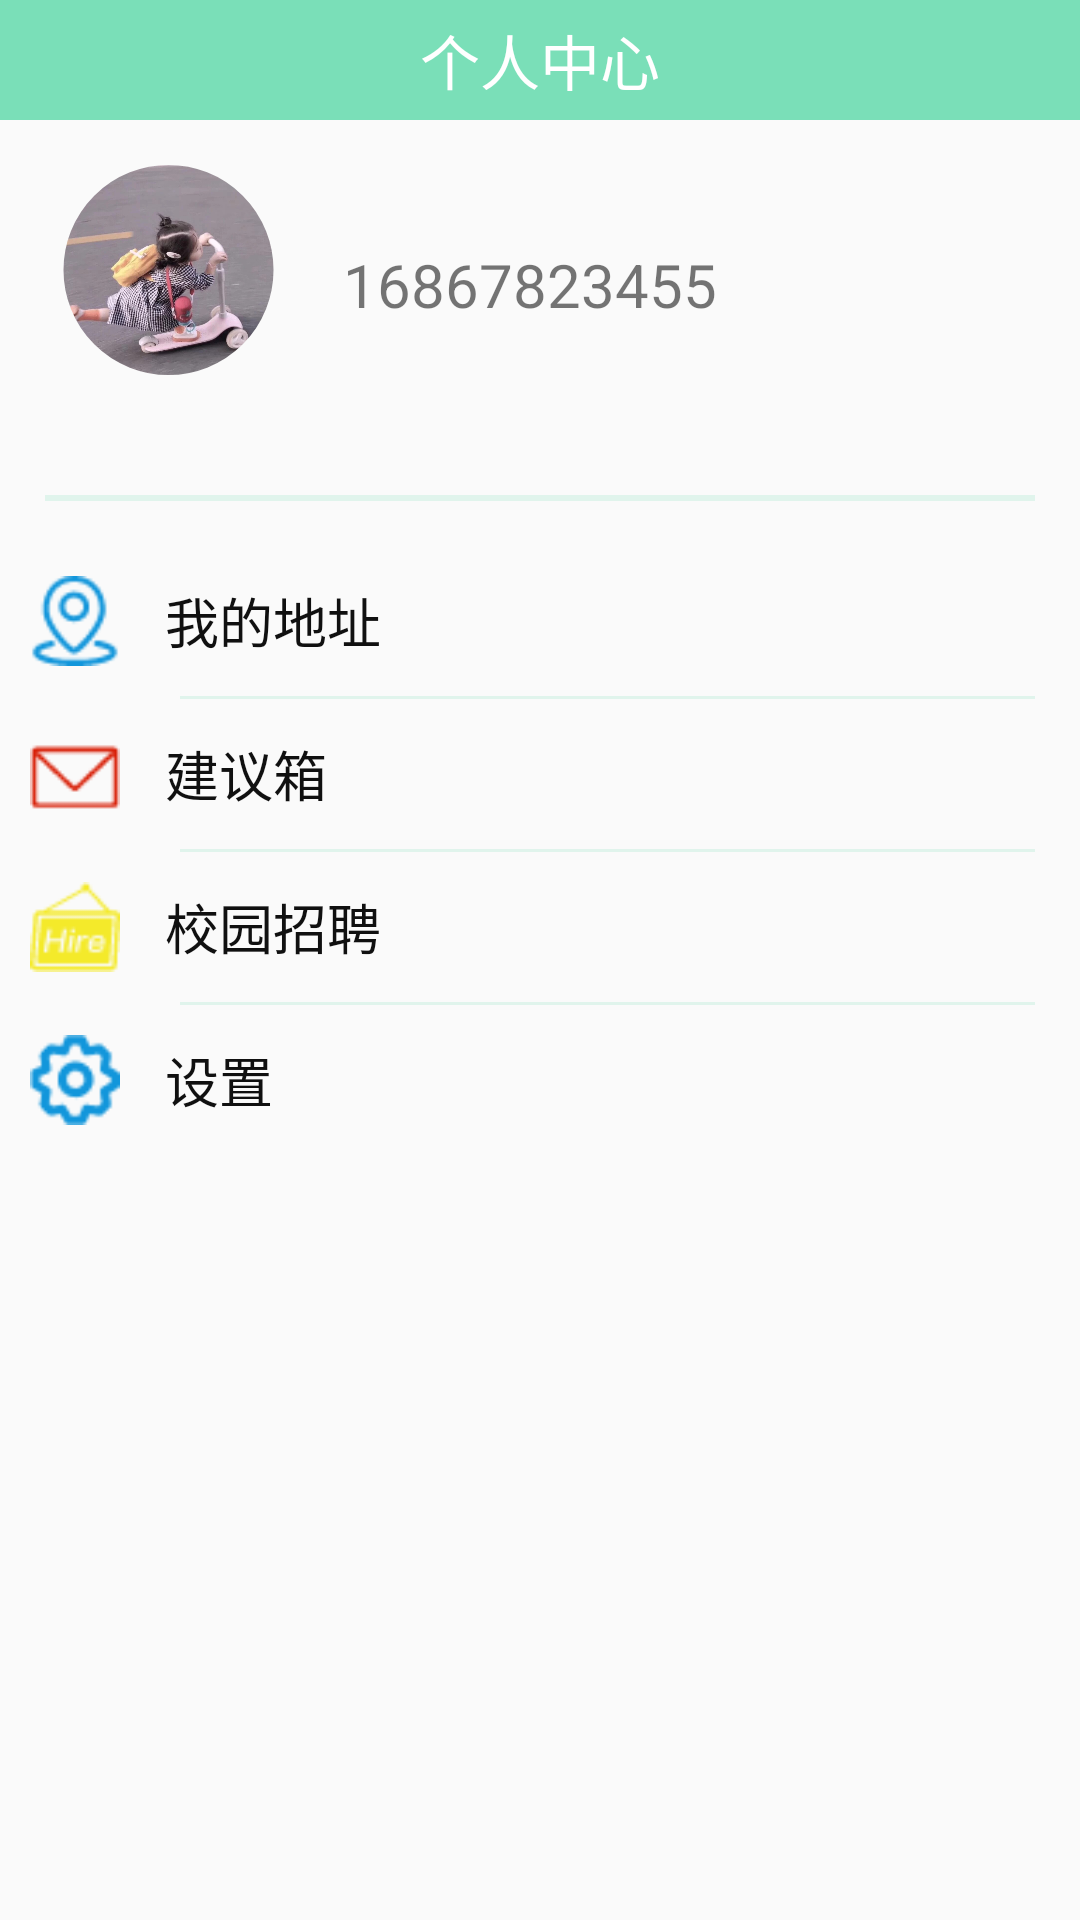

Named icons in this screenshot (1080px x 1920px) and their bounding boxes, (x1, y1, x2, y2):
circle images: (63, 165, 274, 375)
dizhi: (32, 576, 118, 666)
jianyi: (30, 745, 120, 809)
shezhi: (30, 1035, 120, 1125)
zhaopin: (30, 882, 120, 972)
